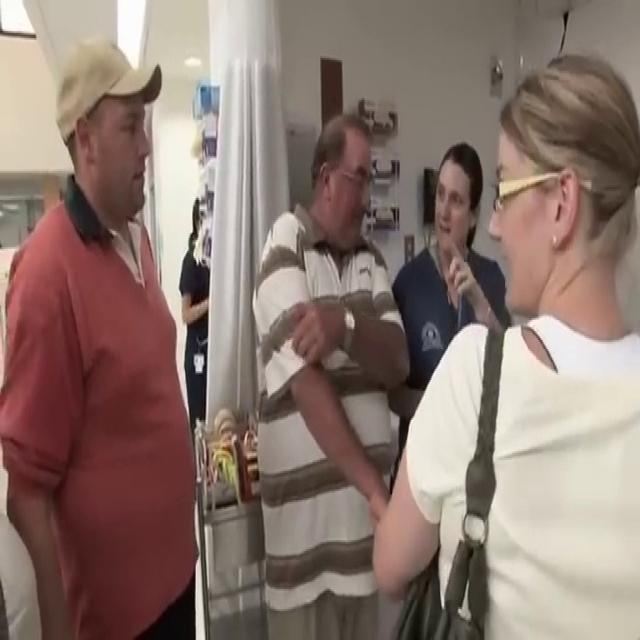nurse: (414, 88, 490, 361), (178, 195, 211, 438)
others: (0, 35, 200, 638), (475, 51, 639, 638), (251, 111, 410, 638)
